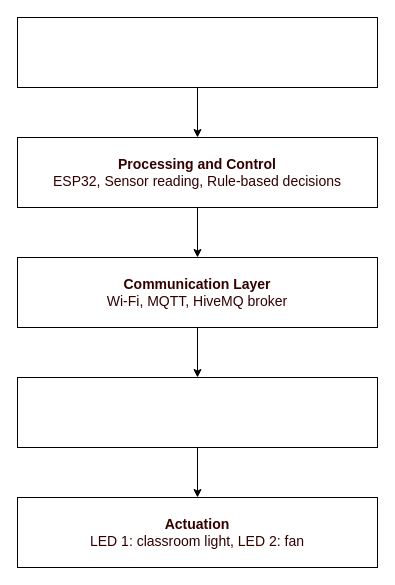
The diagram is 395 pixels wide and 585 high, and some of its shapes have lost their labels. The centre of each missing label's shape, as x and y in pixels:
Monitoring and Remote Control MQTT client, Sensor telemetry, Remote commands: point 197,412
Sensing Layer DHT22, LDR, PIR: point 197,52
